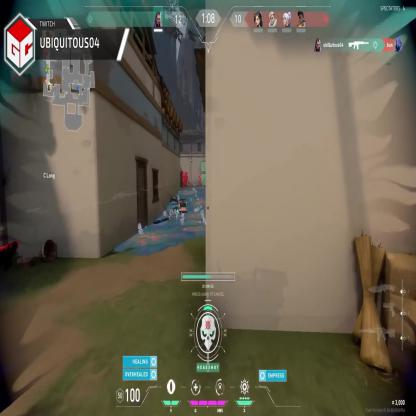enemy: (185, 170, 191, 187), (182, 170, 186, 188), (198, 173, 202, 186)
enemy_head: (183, 170, 185, 174), (199, 173, 201, 177), (186, 171, 188, 174)
